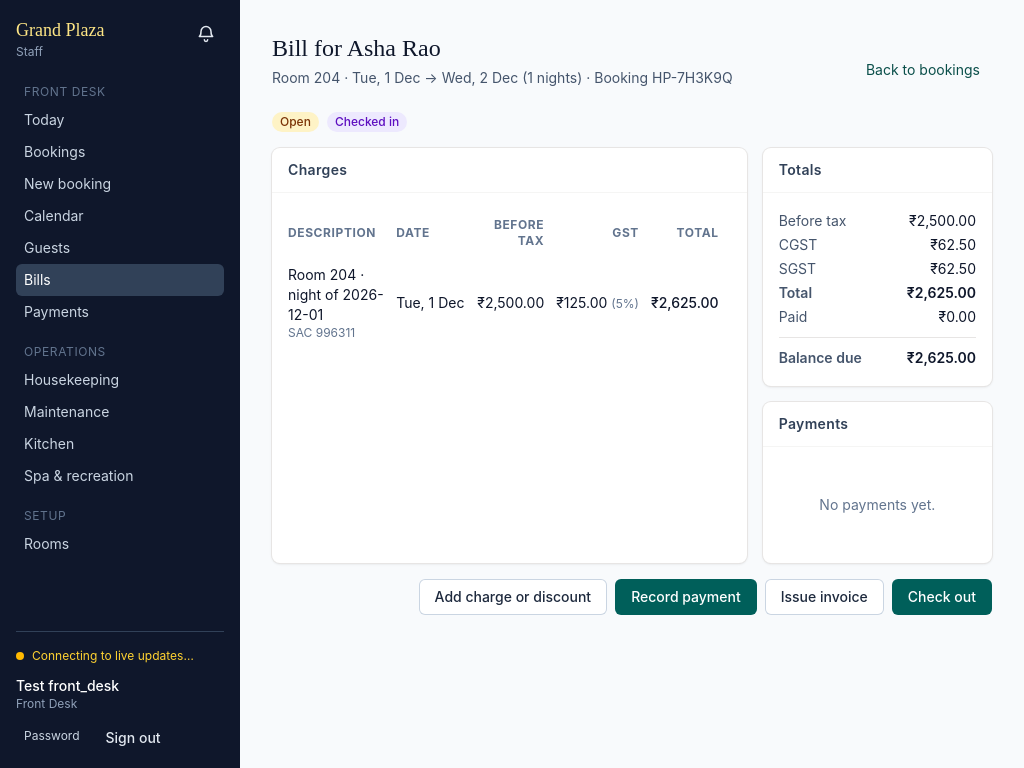
Scenario: adding a charge › asks the front desk to get a manager for a large charge
The image size is (1024, 768).
Click the button "Add charge or discount" at (513, 597), box [419,579,607,615]
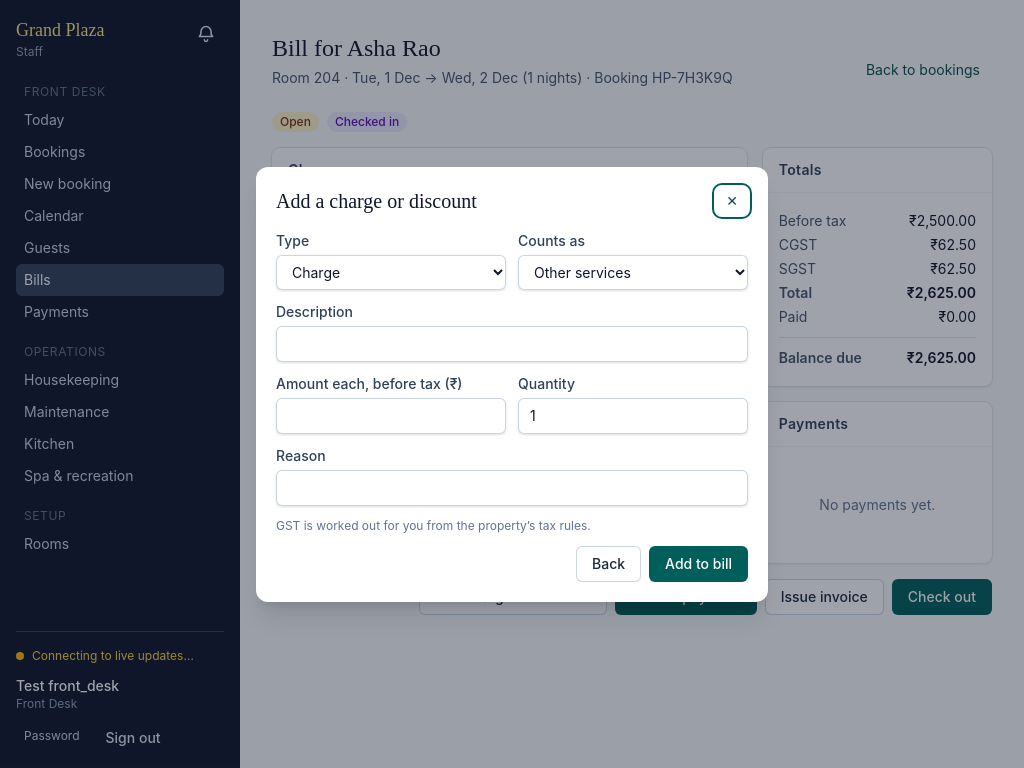
Type "Laundry" into the field labelled "Description" at (512, 344), box [276,326,748,362]
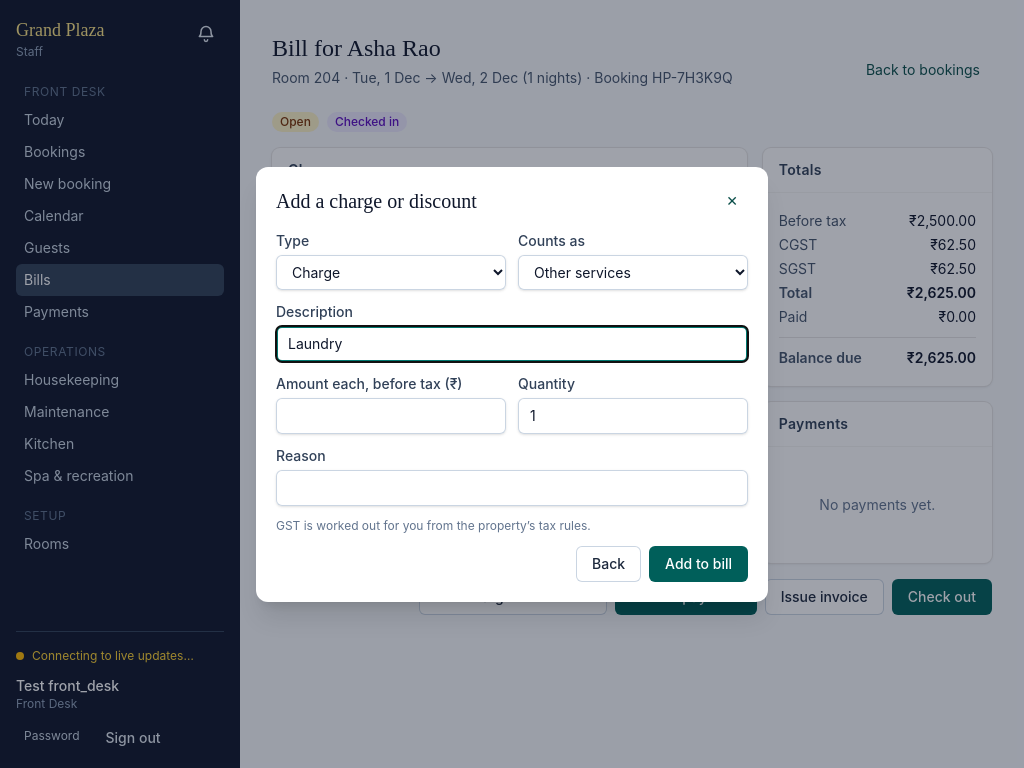
Type "5000.01" into the field labelled "Amount each, before tax (₹)" at (391, 416), box [276,398,506,434]
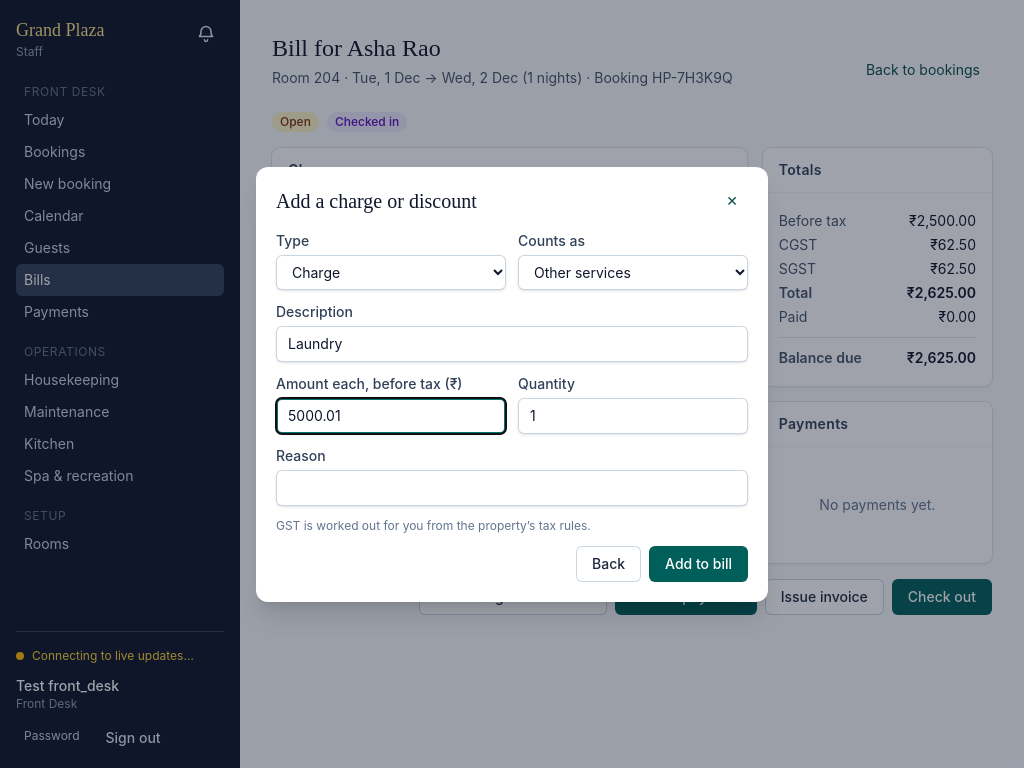
Type "Guest request" into the field labelled "Reason" at (512, 488), box [276,470,748,506]
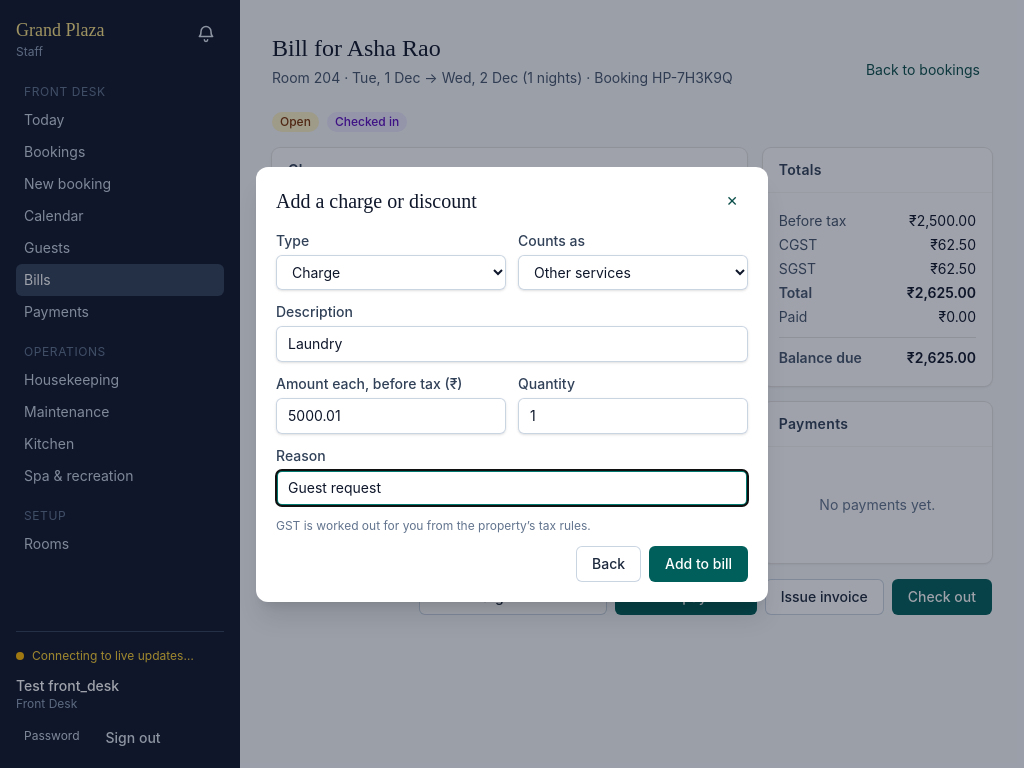
Click the button "Add to bill" at (699, 564), box [649,546,748,582]
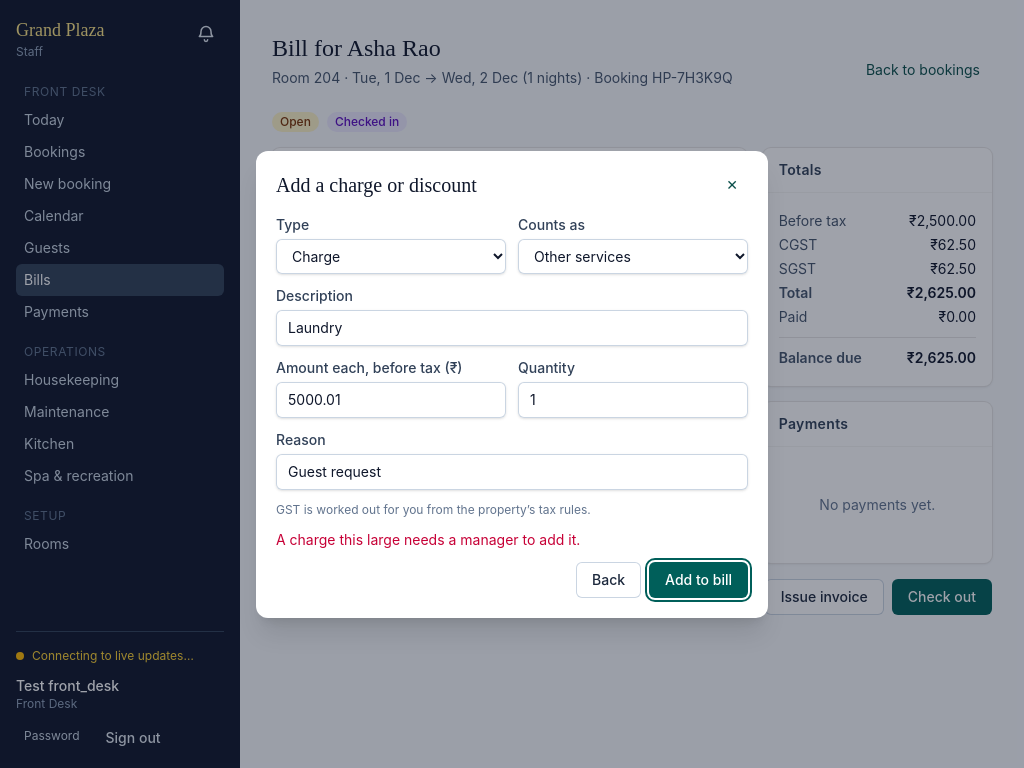
expect the message shows "needs a manager": met, box [276,530,580,548]
